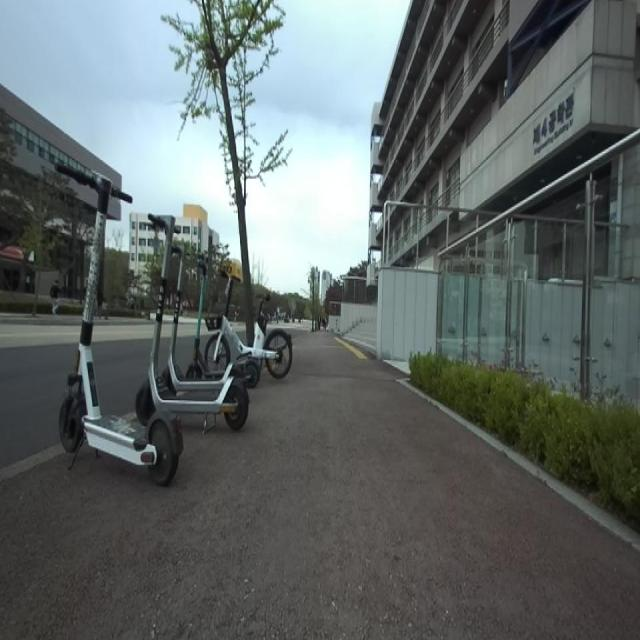sidewalk: (0, 332, 640, 639), (398, 380, 640, 551)
